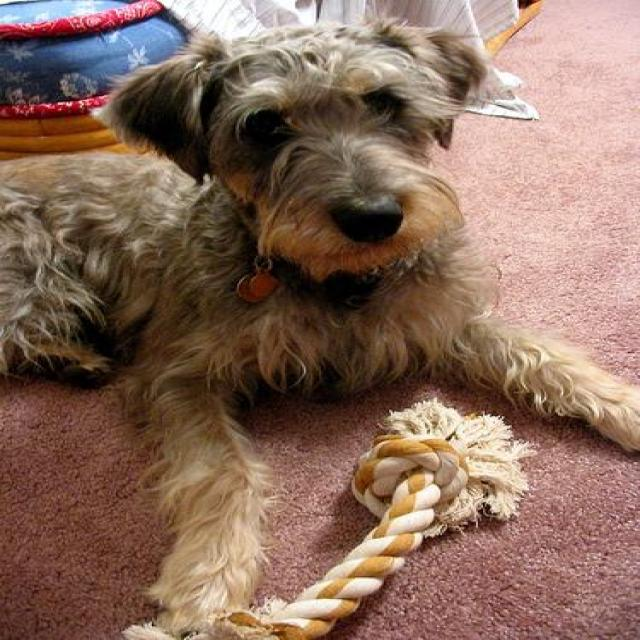standard_schnauzer: (0, 13, 637, 637)
